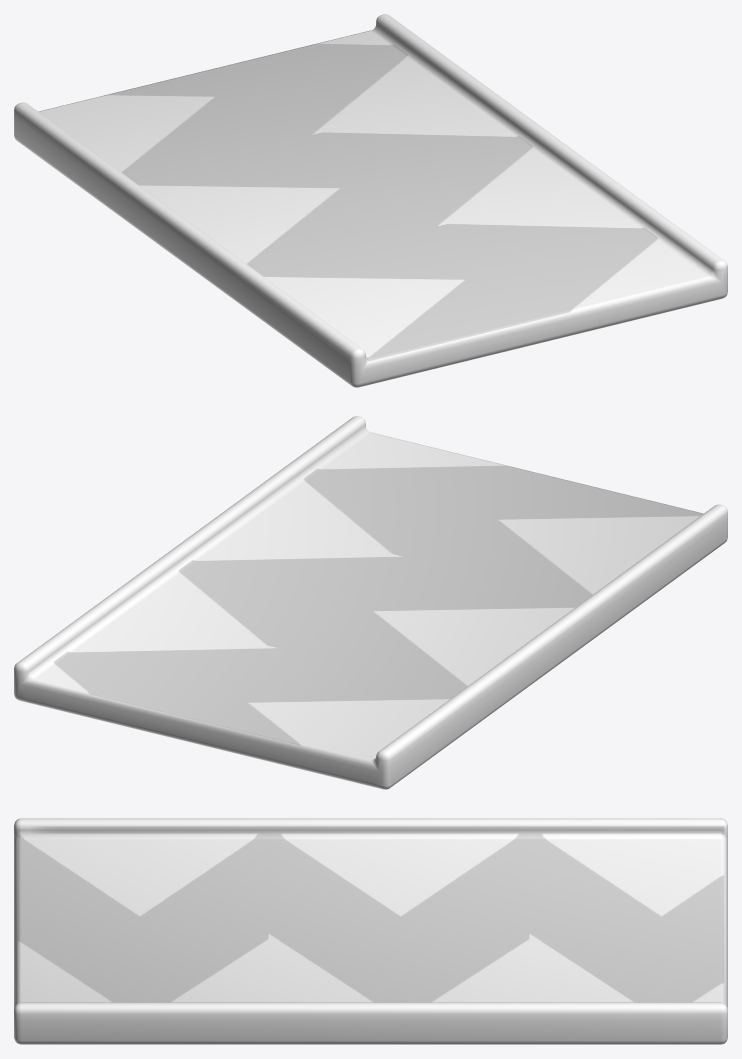
File: Road.fbx
The picture shows the model from 3 angles, top to bottom: view 1: azimuth 30°, elevation 25°; view 2: azimuth 150°, elevation 25°; view 3: azimuth 270°, elevation 25°; orthographic projection. The views are drawn at different scales.
Parts seen in each view (by area): view 1: Cube; view 2: Cube; view 3: Cube.
Part boxes in pixels (<box>): Cube: <box>14,14,727,387</box>; Cube: <box>14,416,727,789</box>; Cube: <box>14,818,727,1044</box>.
Size of the model in its own units: 4.86 by 0.469 by 7.65.
